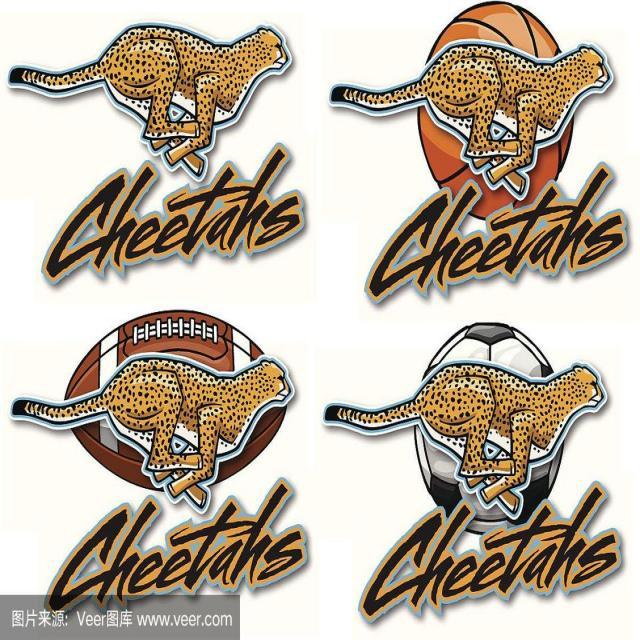rim: (423, 0, 574, 218)
